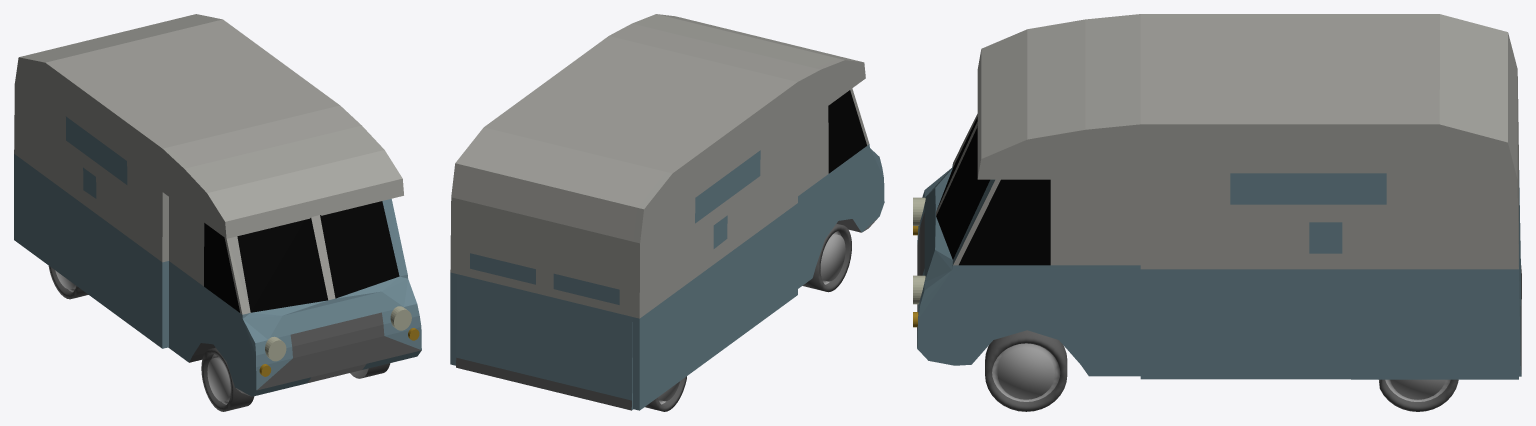
The model's file is morris-ld.dae.
The picture shows the model from 3 angles, left to right: view 1: azimuth 30°, elevation 25°; view 2: azimuth 150°, elevation 25°; view 3: azimuth 270°, elevation 25°; orthographic projection. The views are drawn at different scales.
Visible parts, largest first — view 1: Cube_001, Plane_001, Cylinder_001, Cylinder; view 2: Cube_001, Plane_001, Plane_002, Plane_003; view 3: Cube_001, Plane, Plane_005.
Boxes of the visible parts, left/top/right/bottom form: Cube_001: left=14, top=14, right=421, bottom=411; Plane_001: left=65, top=116, right=127, bottom=184; Cylinder_001: left=390, top=306, right=411, bottom=330; Cylinder: left=265, top=336, right=286, bottom=361; Cube_001: left=450, top=14, right=884, bottom=411; Plane_001: left=695, top=150, right=760, bottom=223; Plane_002: left=553, top=273, right=619, bottom=304; Plane_003: left=470, top=253, right=535, bottom=284; Cube_001: left=917, top=14, right=1521, bottom=411; Plane: left=1230, top=173, right=1386, bottom=204; Plane_005: left=1309, top=222, right=1342, bottom=253.
Bounding box in the file's own units: 1.61 × 3.73 × 1.99.
